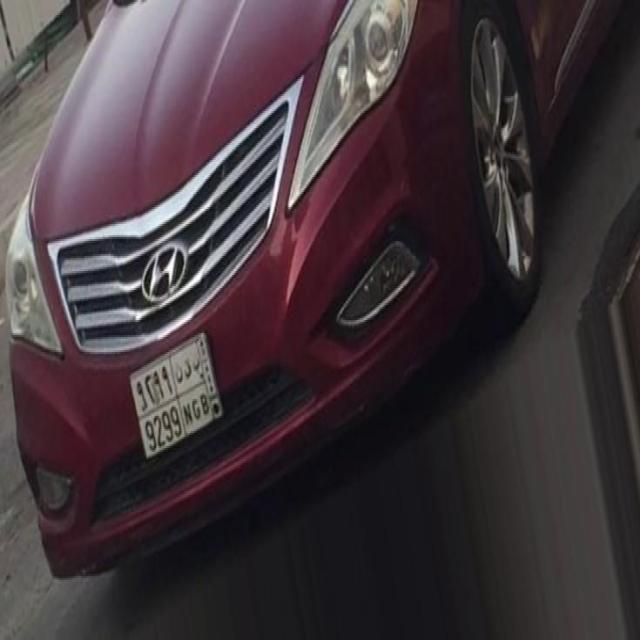Car-plate: (121, 320, 232, 469)
